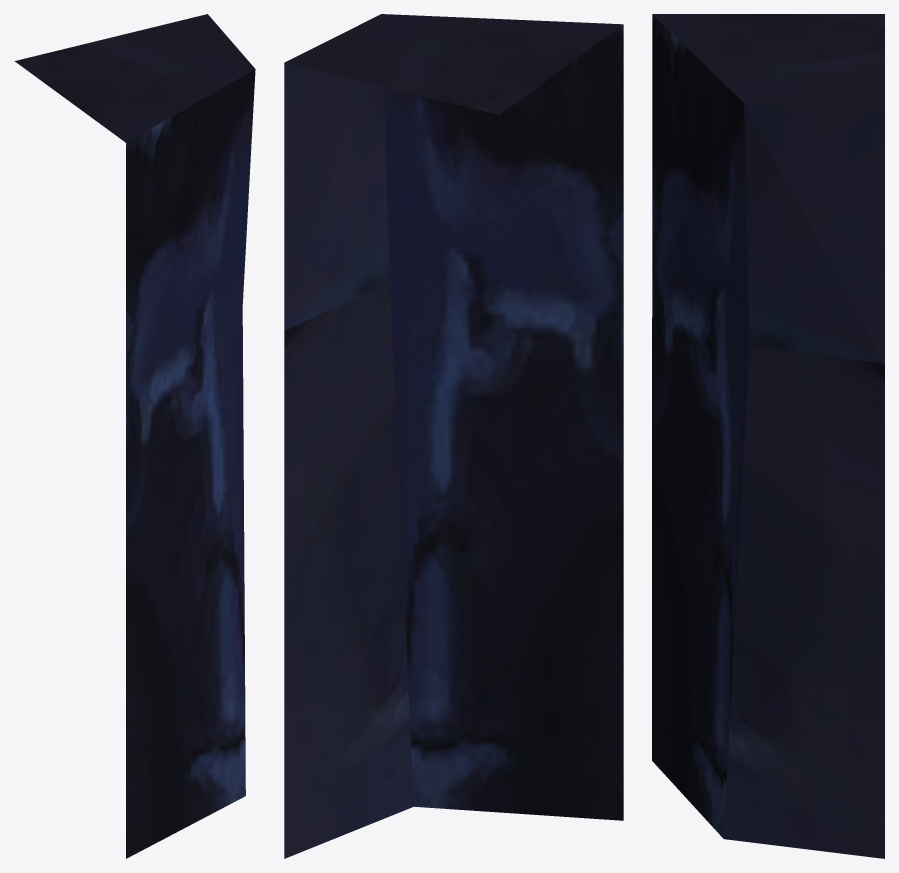
Rendered from palace_quarter_convex_03.fbx.
3 views of the same model, side by side, from view 1: azimuth 30°, elevation 25°; view 2: azimuth 150°, elevation 25°; view 3: azimuth 270°, elevation 25° (orthographic). The views are drawn at different scales.
Parts seen in each view (by area): view 1: palace_tileset/palace_wall_straight01_mat; view 2: palace_tileset/palace_wall_straight01_mat; view 3: palace_tileset/palace_wall_straight01_mat.
Boxes of the visible parts, x1,y1,x2,y2 form: palace_tileset/palace_wall_straight01_mat: (14,14,255,858); palace_tileset/palace_wall_straight01_mat: (284,14,623,858); palace_tileset/palace_wall_straight01_mat: (652,14,884,858).
Bounding box in the file's own units: 0.393 × 1.39 × 0.393.
